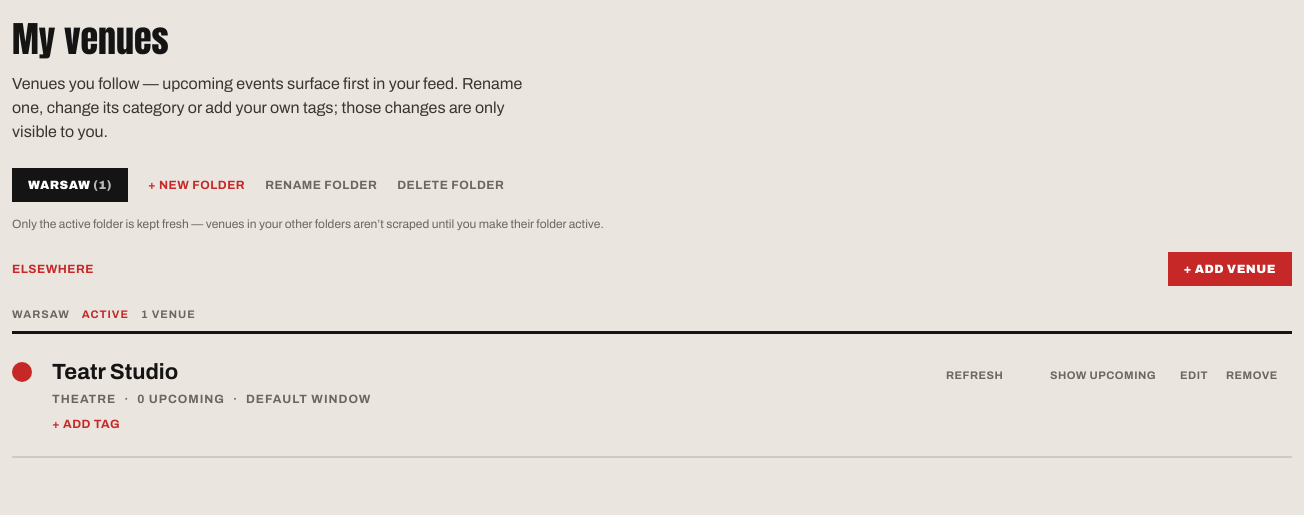
Test: MyVenuesSection — refresh / show upcoming (GOI-75) › toggles the venue’s upcoming events on demand
The image size is (1304, 515).
Step 1. Click the button "Show upcoming" → click(1115, 375), box [1050,366,1180,383]
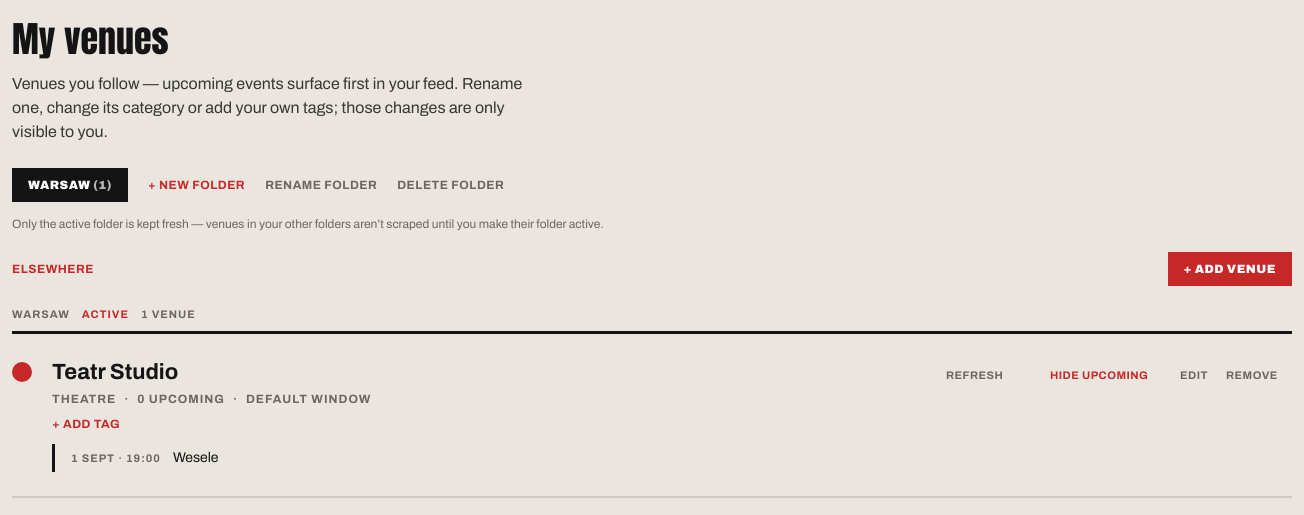
Step 2. Click the button "Hide upcoming" → click(1115, 375), box [1050,366,1180,383]
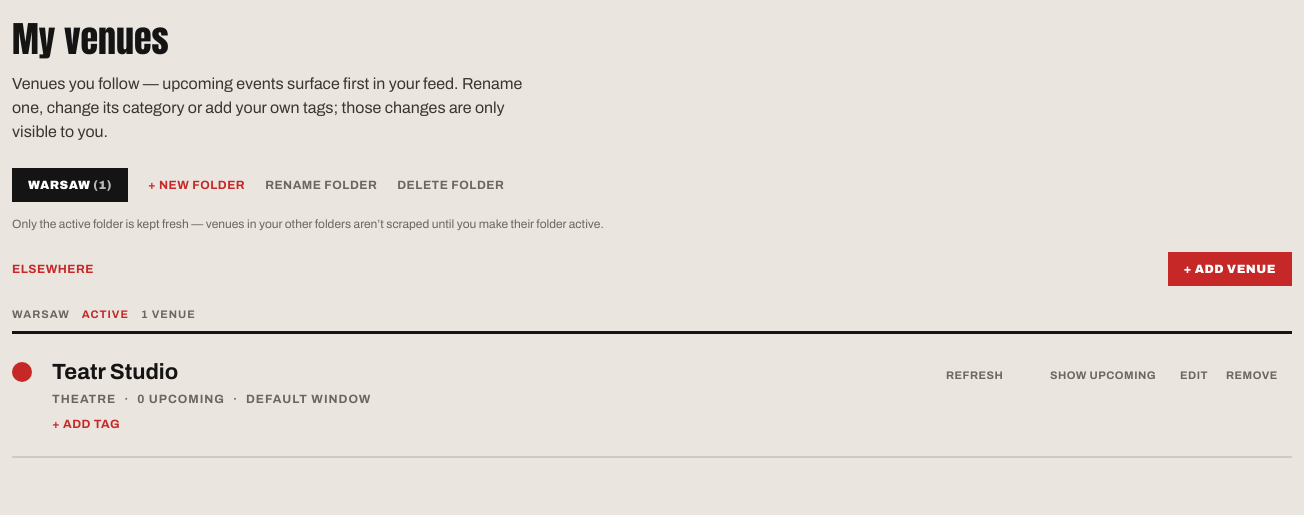
Check: the link "Wesele" is gone
